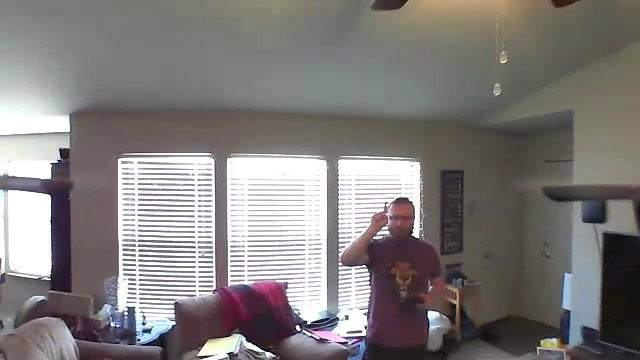up: (367, 196, 392, 228)
